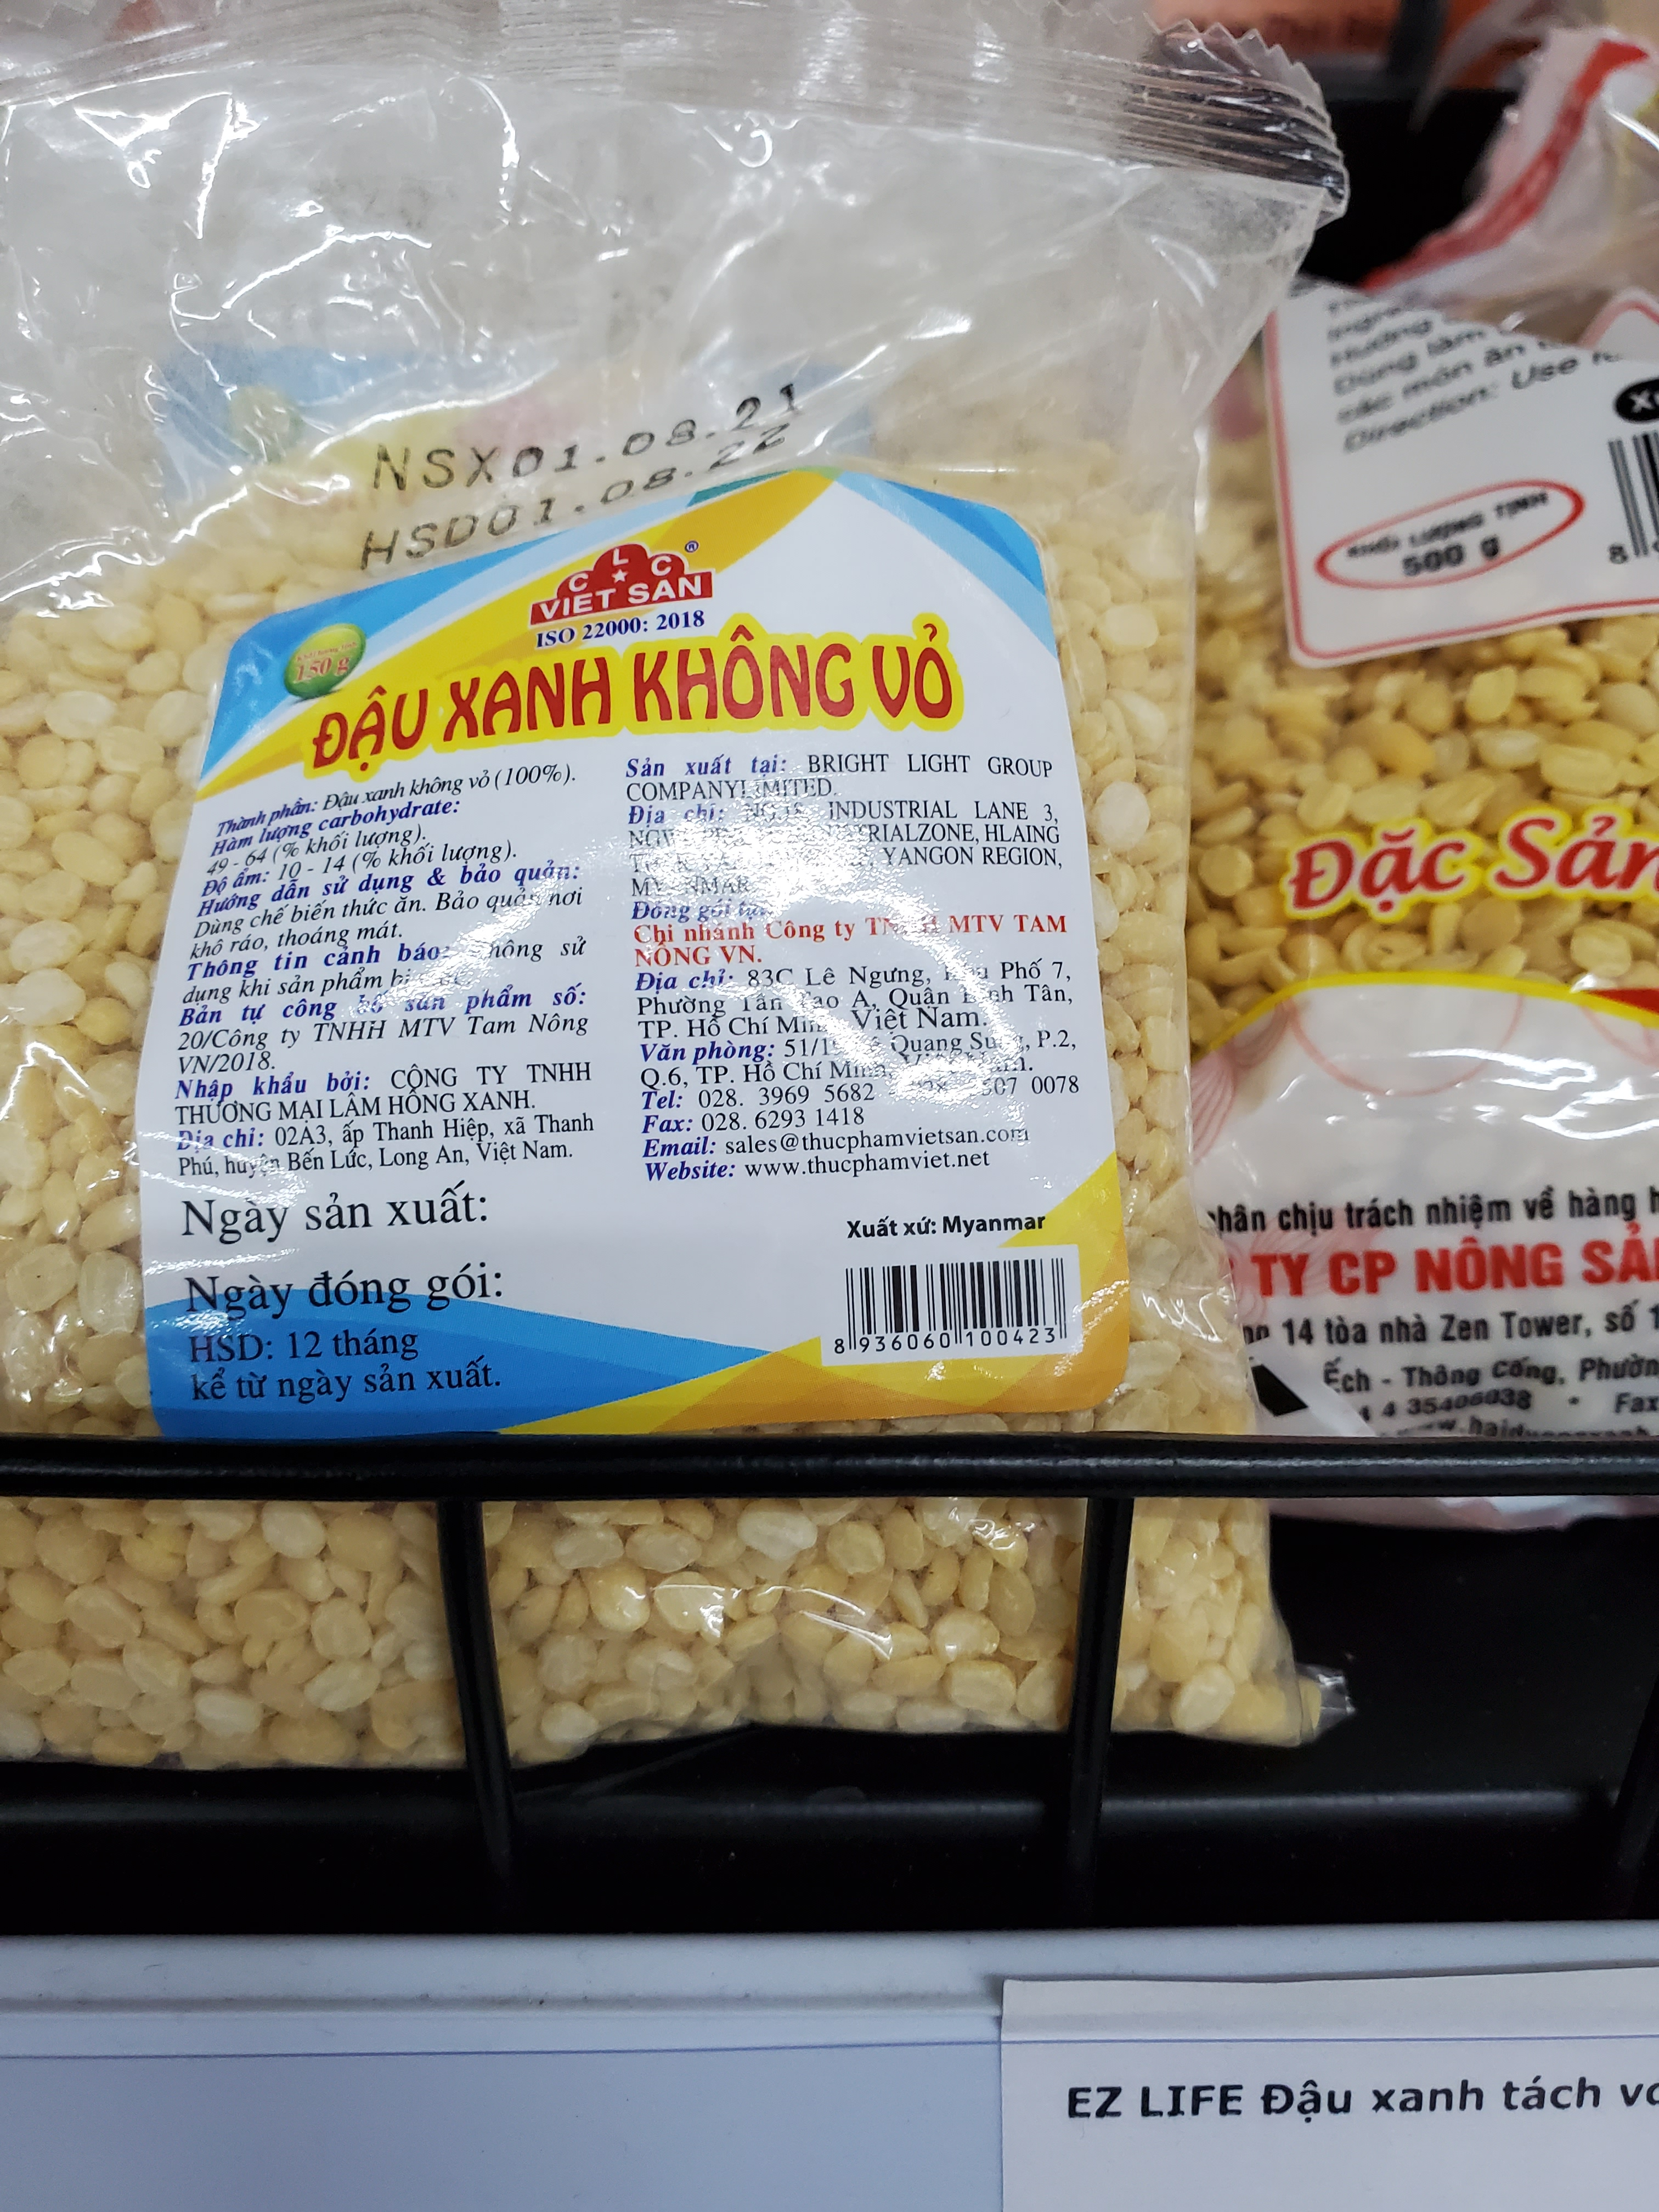barcode: (805, 1245, 1091, 1364)
